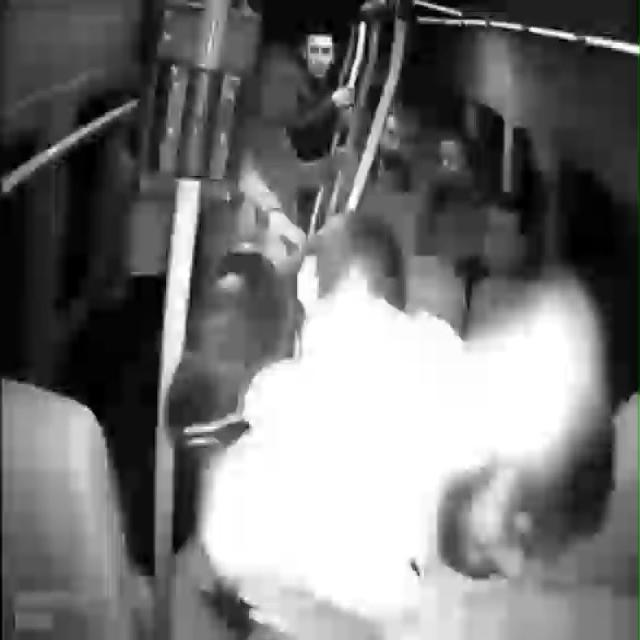fight: (246, 166, 592, 640)
